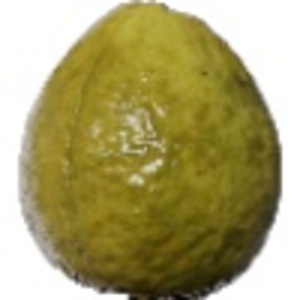goiaba: (12, 3, 285, 295)
